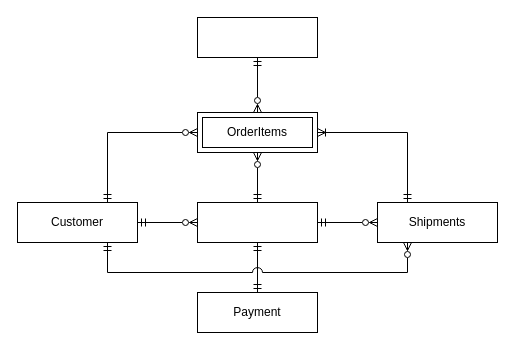
Some shapes in this 515 by 350 pixel diagram are drawn without their labels. The shapes that lost their labels are listed below. From the top down, each one's box as (x1, y1, x2, y2) in pixels, then its label:
(196, 16, 318, 58): Items
(196, 202, 318, 242): Orders
